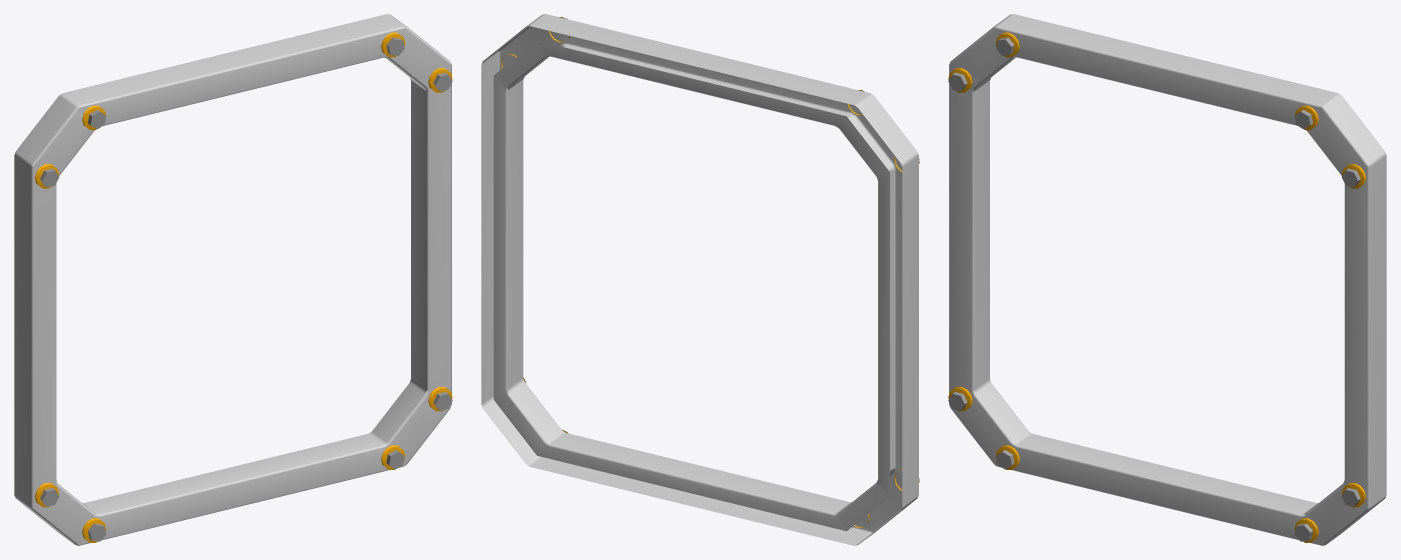
The model's file is VentMount.fbx.
3 views of the same model, side by side, from view 1: azimuth 30°, elevation 25°; view 2: azimuth 150°, elevation 25°; view 3: azimuth 330°, elevation 25° (orthographic).
Visible parts, largest first — view 1: Cube.039, Cube.040, Cube.049; view 2: Cube.039; view 3: Cube.039, Cube.040, Cube.049.
Boxes of the visible parts, left/top/right/bottom form: Cube.039: left=14, top=14, right=451, bottom=545; Cube.040: left=40, top=37, right=452, bottom=541; Cube.049: left=35, top=32, right=452, bottom=542; Cube.039: left=481, top=14, right=918, bottom=545; Cube.039: left=949, top=14, right=1386, bottom=545; Cube.040: left=948, top=37, right=1360, bottom=541; Cube.049: left=948, top=32, right=1365, bottom=542.
Bounding box in the file's own units: 138 × 138 × 12.96.
